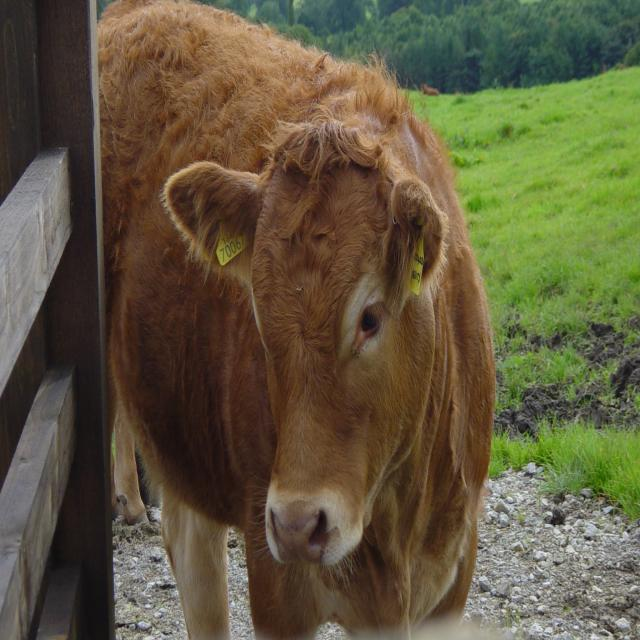cow: (99, 0, 495, 638)
